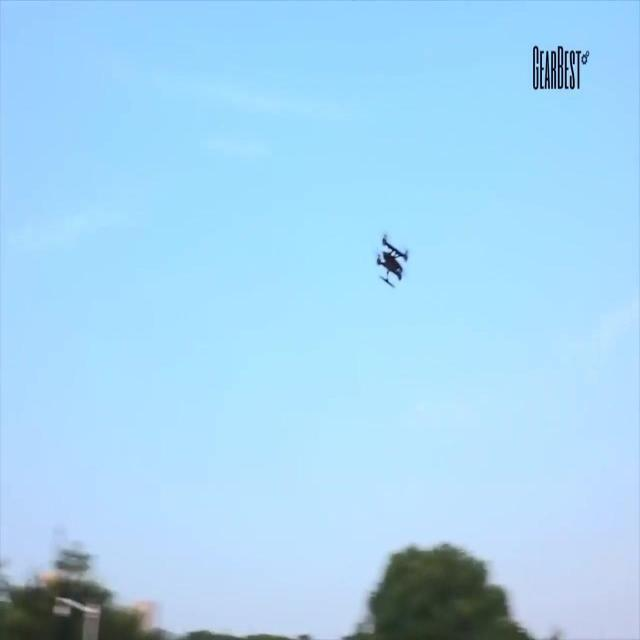drone: (374, 231, 408, 291)
